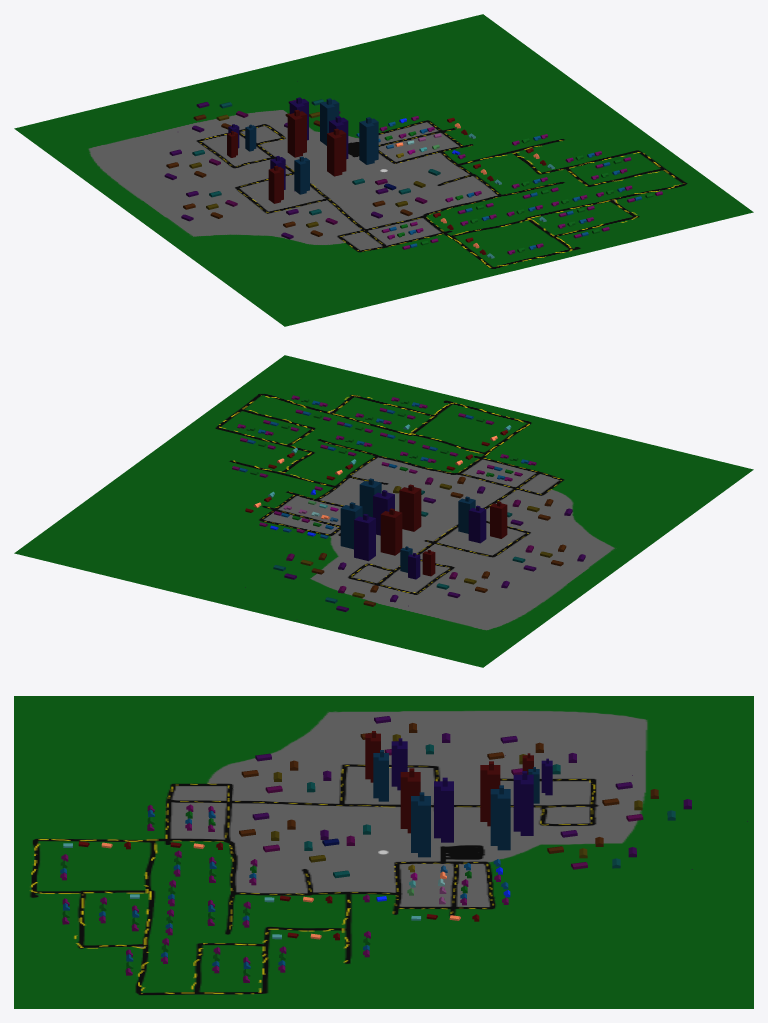
File: City2.obj
3 views of the same model, one above another, from view 1: azimuth 30°, elevation 25°; view 2: azimuth 150°, elevation 25°; view 3: azimuth 270°, elevation 25° (orthographic). The views are drawn at different scales.
Parts seen in each view (by area): view 1: City; view 2: City; view 3: City.
Part boxes in pixels (left/top/right/bottom): City: left=14, top=14, right=753, bottom=326; City: left=14, top=355, right=753, bottom=667; City: left=14, top=696, right=753, bottom=1008.
Size of the model in its own units: 1000 by 87.1 by 1000.
2 materials, 2 textured.
